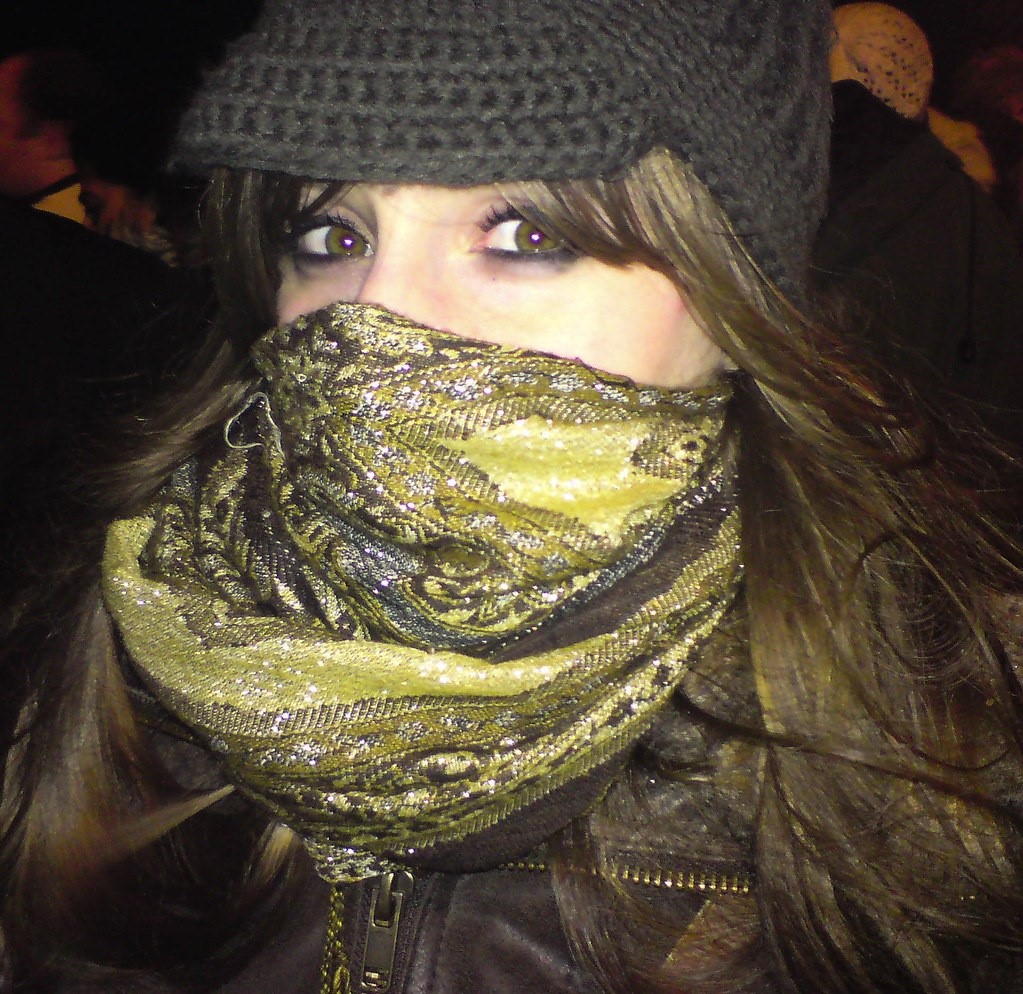face_with_mask: (252, 69, 745, 576)
